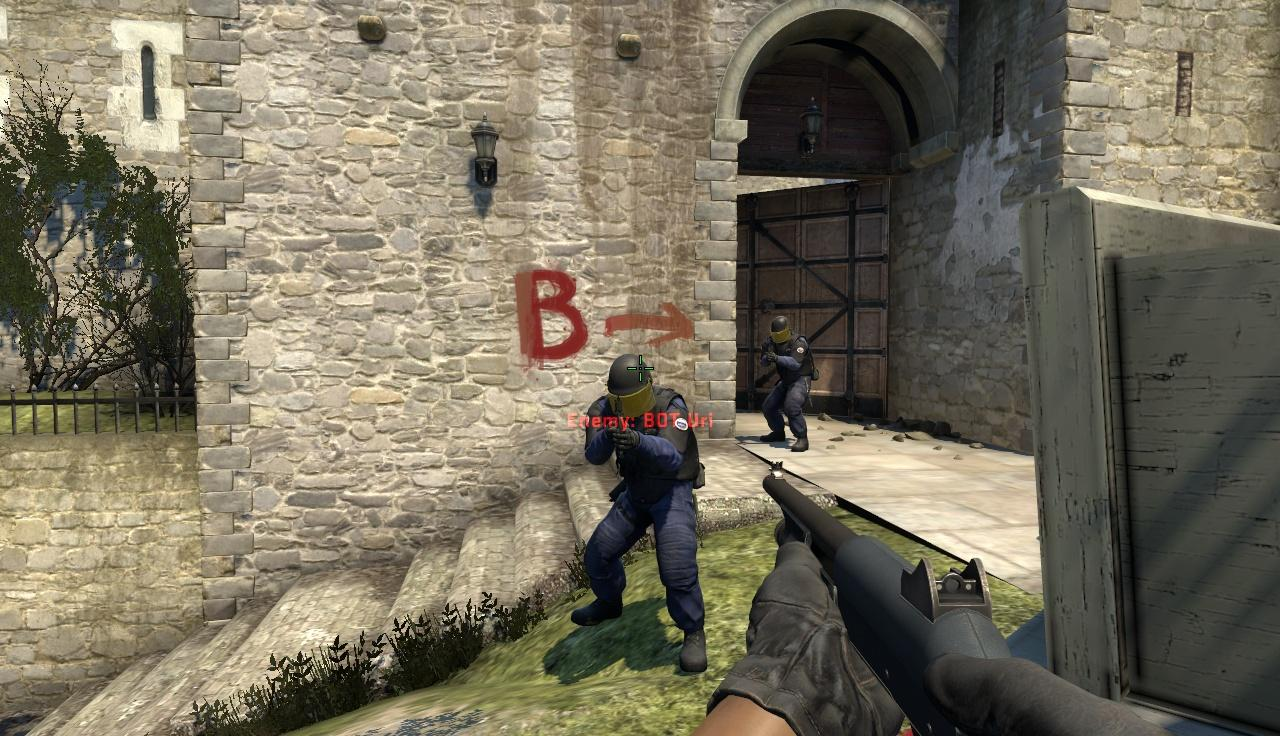ct: (588, 354, 699, 666), (763, 316, 809, 450)
cthead: (608, 355, 653, 412), (770, 316, 791, 341)
shotgun: (761, 464, 1052, 736)
